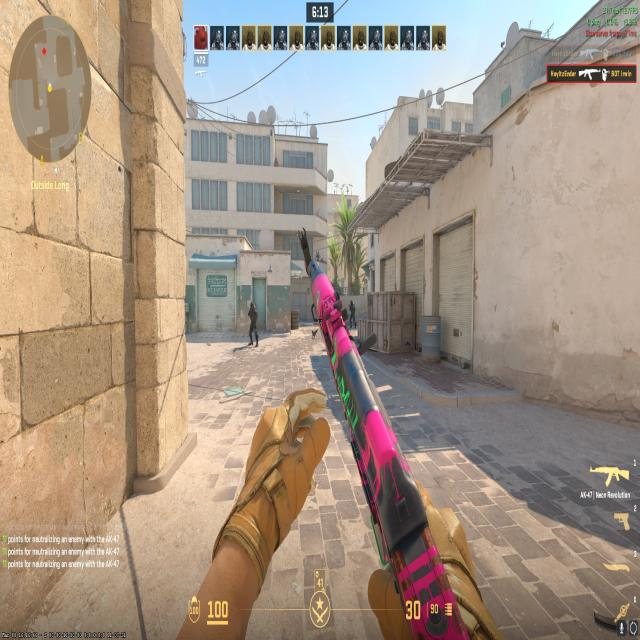ct: (246, 298, 258, 352), (348, 297, 357, 331)
